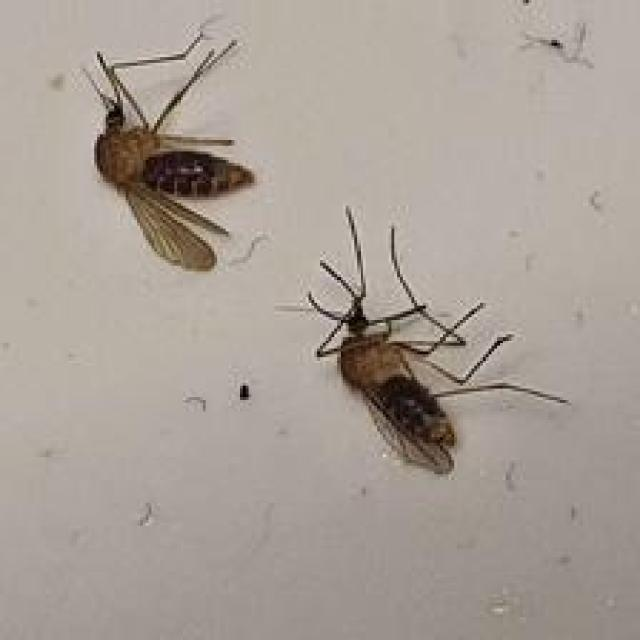Culex: (74, 16, 257, 273)
